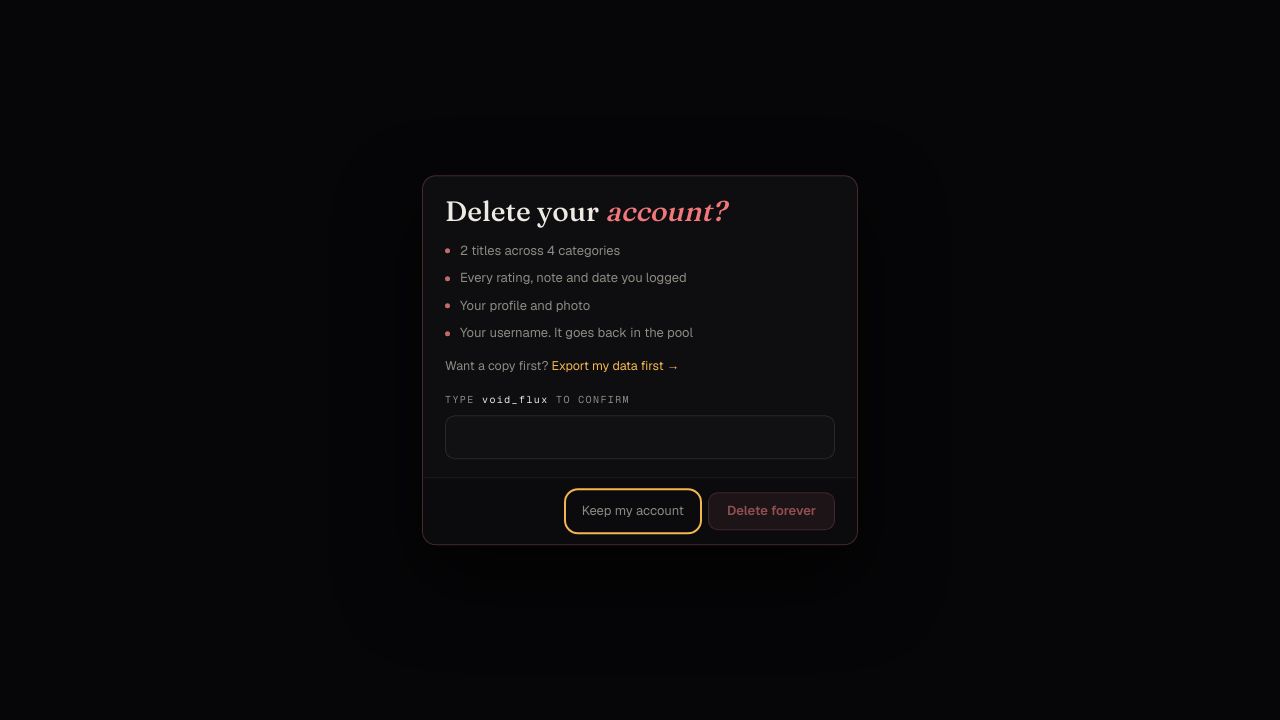
Scenario: DeleteAccountDialog › deletes with the typed confirmation and shows why if it can't
The width and height of the screenshot is (1280, 720).
In the field labelled "Type void_flux to confirm": (640, 437) [445,415,835,459], type "void_flux"
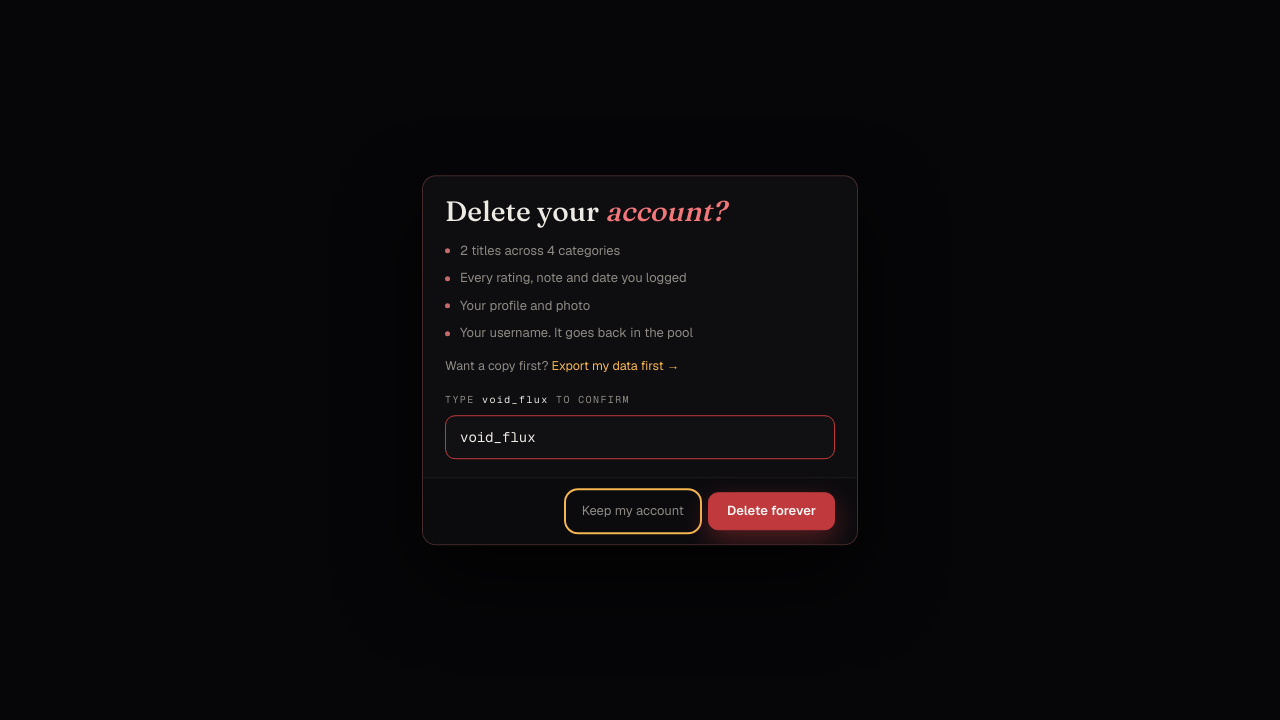
Click the button "Delete forever": (771, 511) [708,492,835,530]
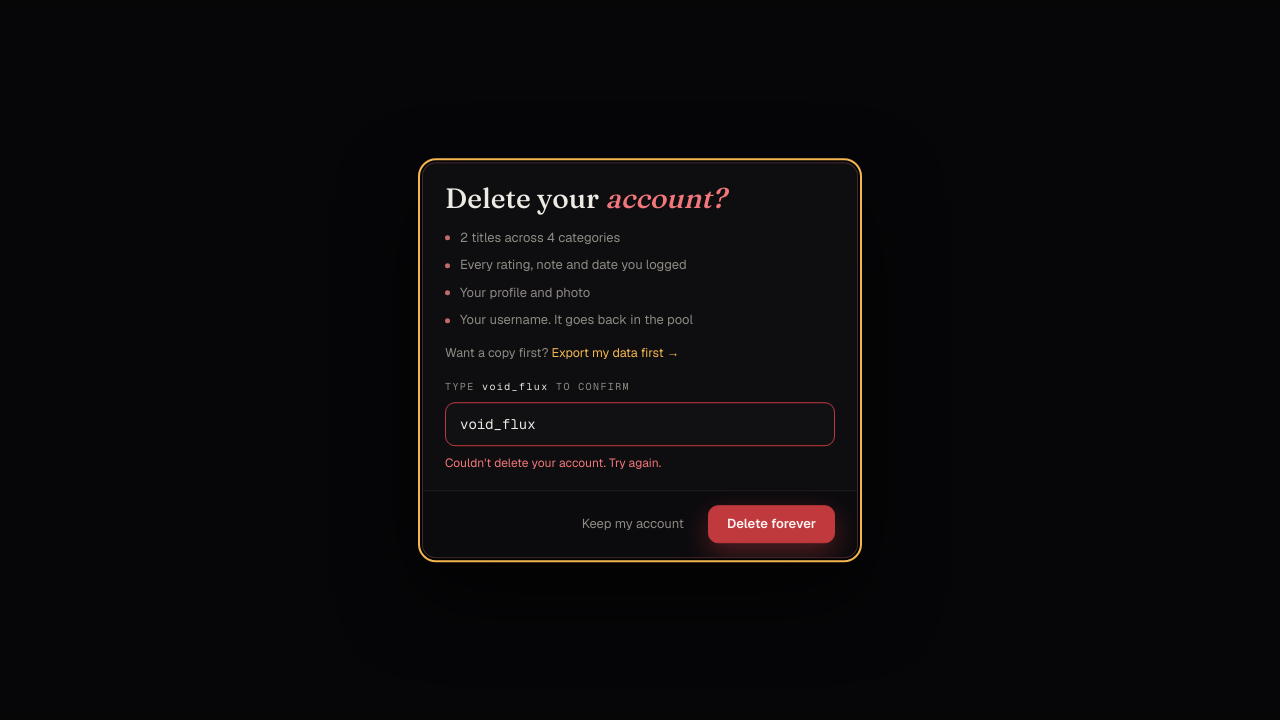
Expected: the text "Couldn't delete your account. Try again." is shown, [445,455,661,471]
